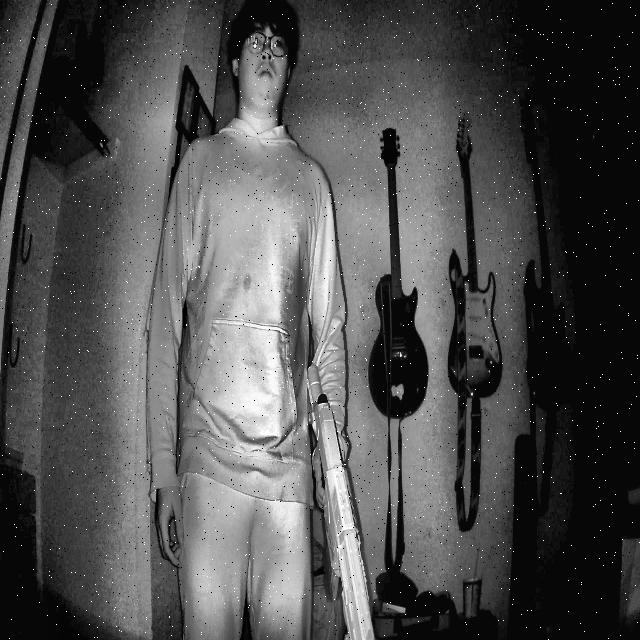Nerf_Blaster: (290, 333, 398, 640)
